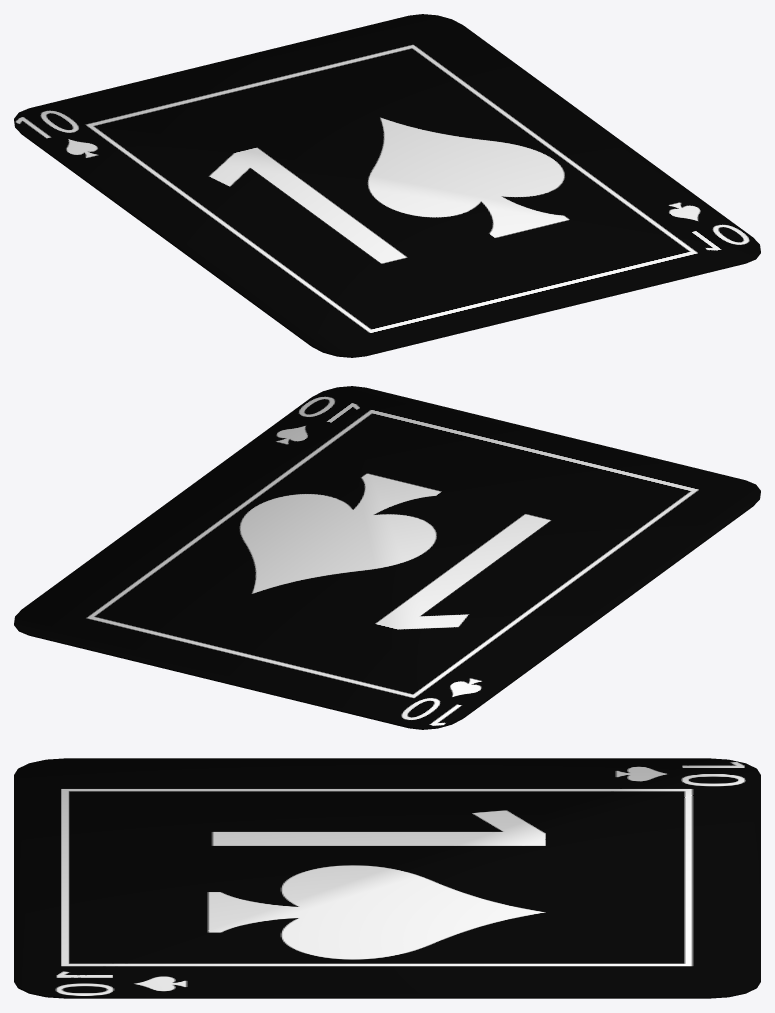
File: Dix_de_pique.gltf
The picture shows the model from 3 angles, top to bottom: view 1: azimuth 30°, elevation 25°; view 2: azimuth 150°, elevation 25°; view 3: azimuth 270°, elevation 25°; orthographic projection. The views are drawn at different scales.
Parts seen in each view (by area): view 1: Plane.001; view 2: Plane.001; view 3: Plane.001.
Boxes of the visible parts, x1=… form: Plane.001: x1=14, y1=14, x2=760, y2=357; Plane.001: x1=14, y1=386, x2=760, y2=729; Plane.001: x1=14, y1=758, x2=760, y2=998.
Bounding box in the file's own units: 3.59 × 0.01 × 4.74.
2 materials, 2 textured.
